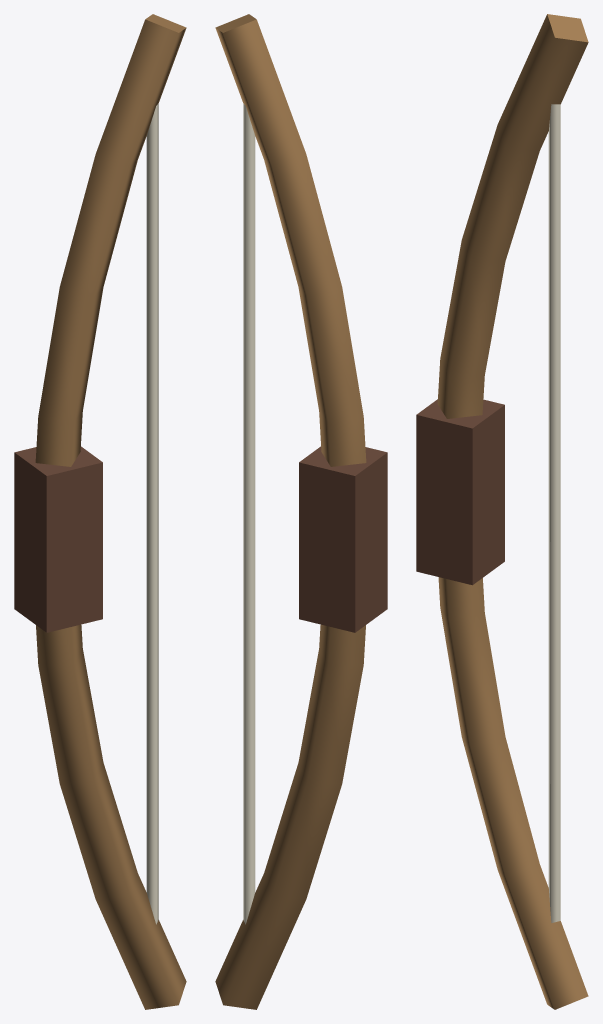
The model's file is archer_bow.glb.
The picture shows the model from 3 angles, left to right: view 1: azimuth 30°, elevation 25°; view 2: azimuth 150°, elevation 25°; view 3: azimuth 330°, elevation 25°; orthographic projection.
Parts seen in each view (by area): view 1: Bow.001; view 2: Bow.001; view 3: Bow.001.
Boxes of the visible parts, x1,y1,x2,y2 form: Bow.001: [14, 14, 186, 1009]; Bow.001: [215, 14, 387, 1009]; Bow.001: [416, 14, 588, 1009].
Size of the model in its own units: 0.2082 by 1.26 by 0.075.
